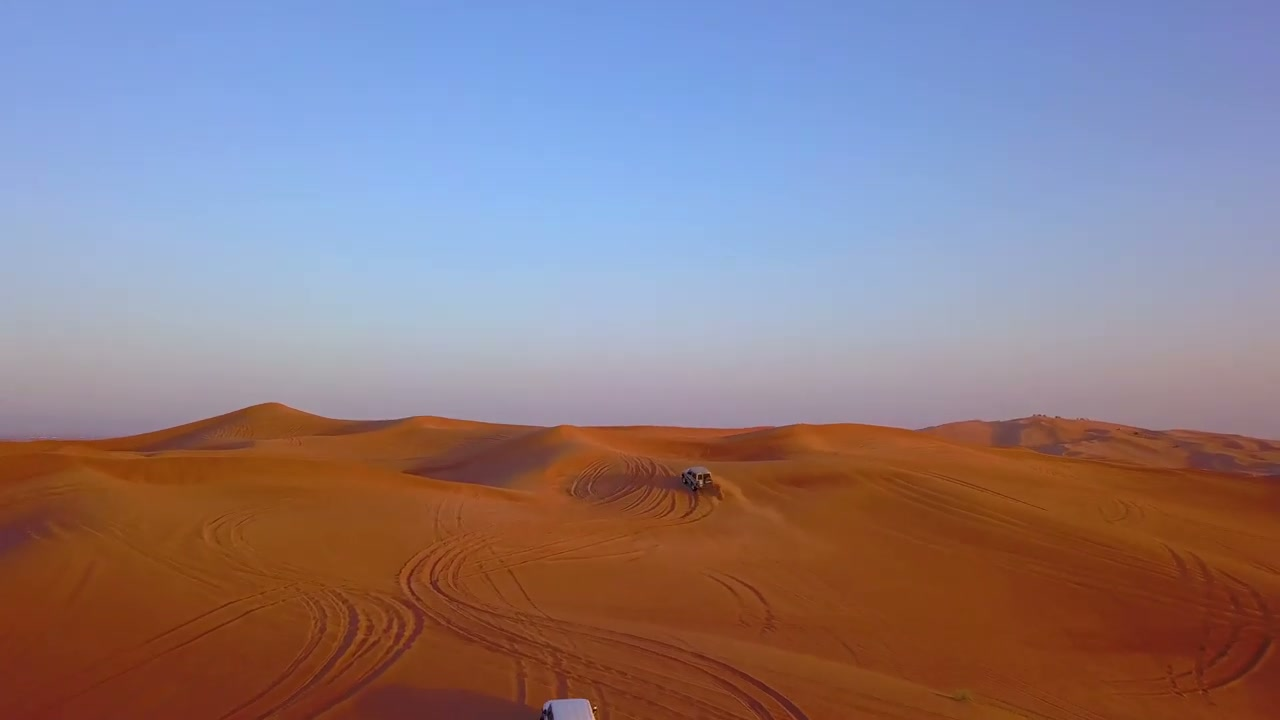vehicle_track: (400, 533, 807, 719), (20, 584, 298, 717), (223, 587, 423, 719), (1109, 545, 1275, 695), (704, 571, 777, 634)
